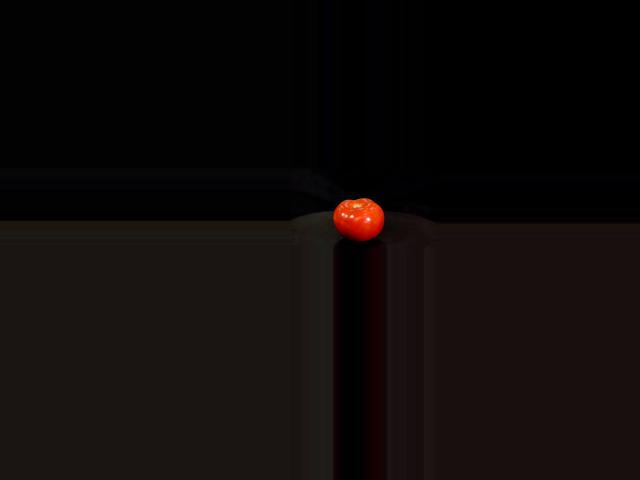tomato: (333, 198, 385, 242)
